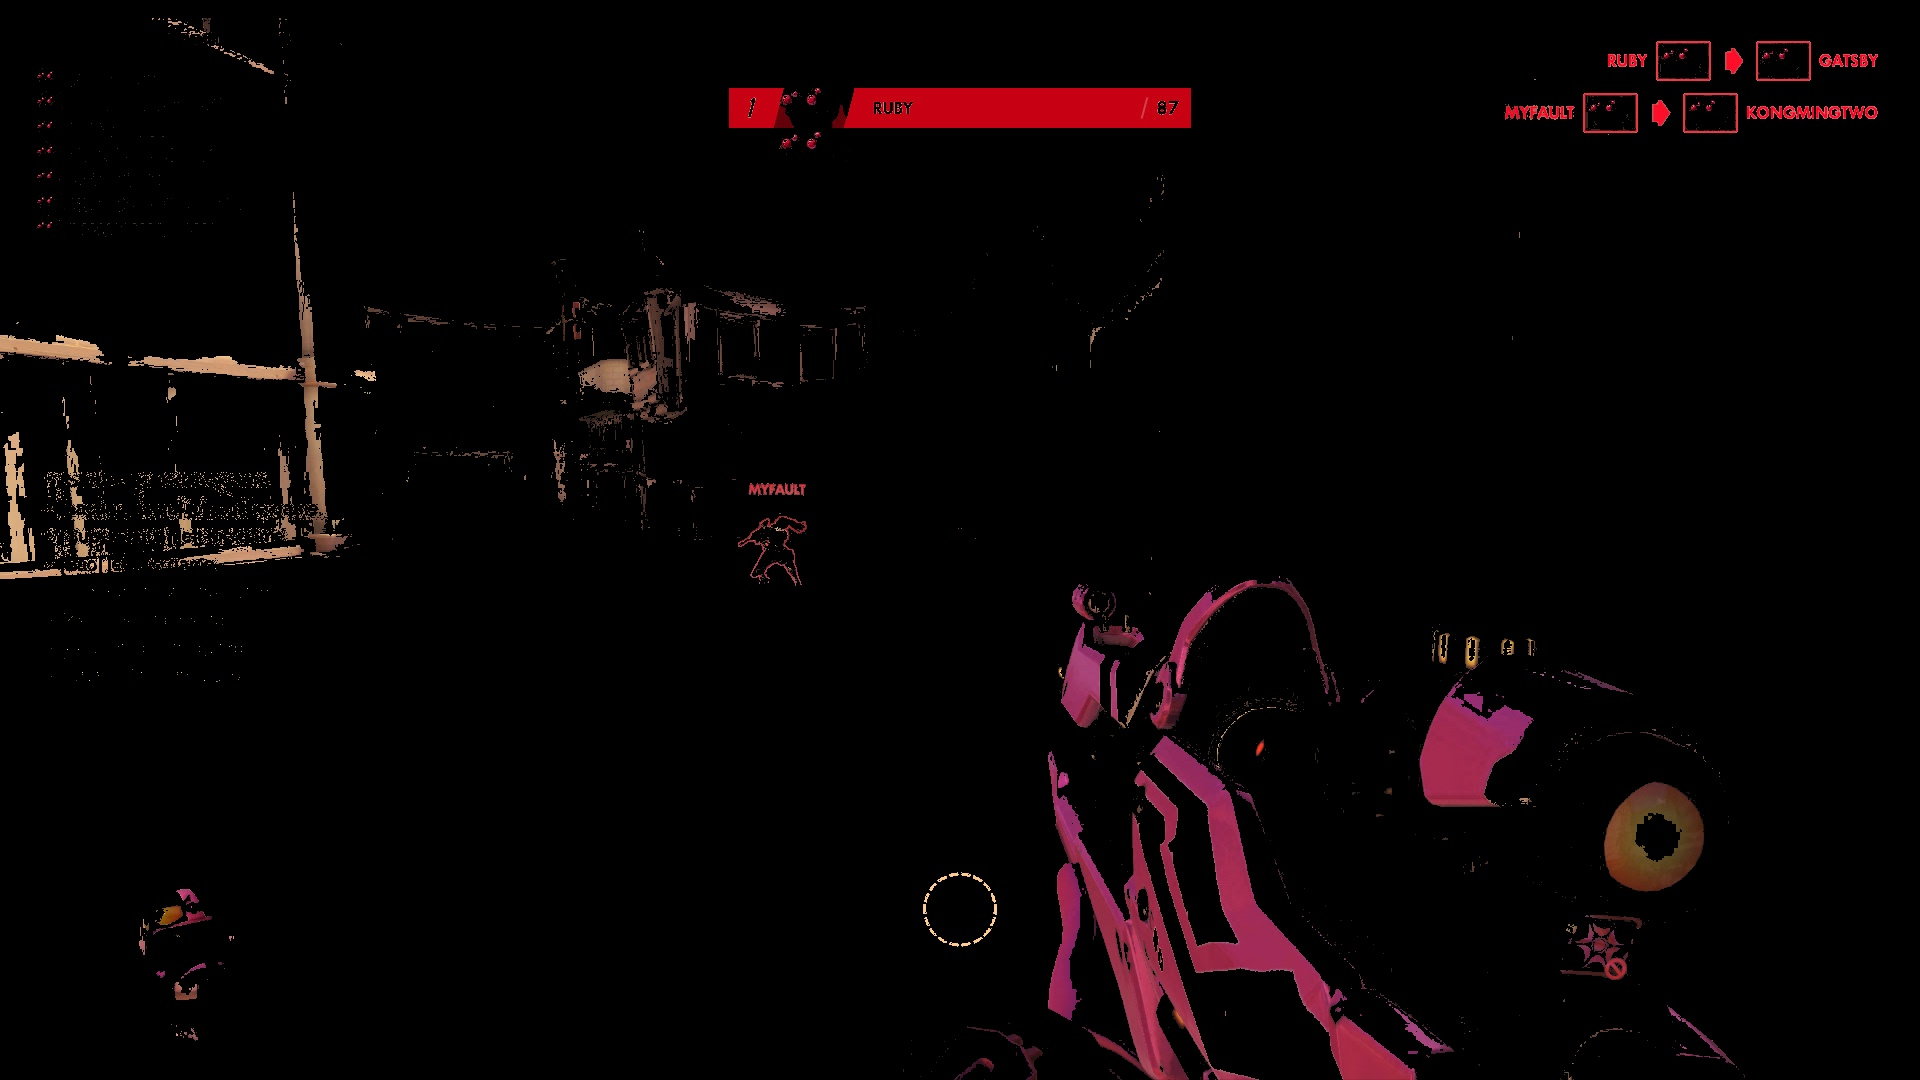widowmaker: (737, 514, 814, 611)
